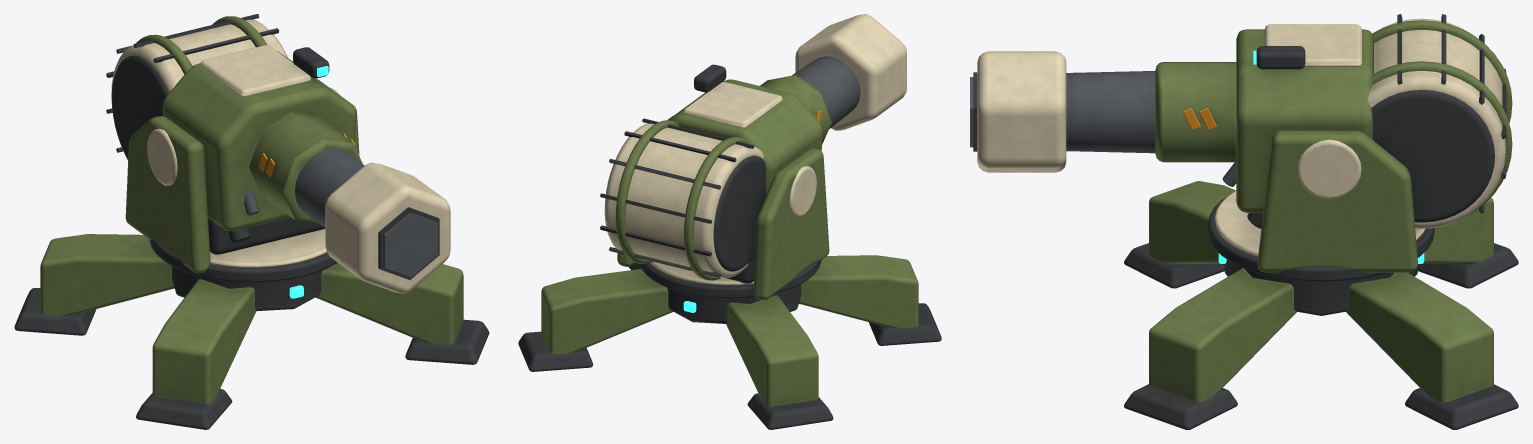
File: mule_frontier_olive.glb
3 renders of one model, left to right at view 1: azimuth 30°, elevation 25°; view 2: azimuth 150°, elevation 25°; view 3: azimuth 270°, elevation 25°, orthographic. The views are drawn at different scales.
Visible parts, largest first — view 1: Mule_Head, Mule_Base; view 2: Mule_Head, Mule_Base; view 3: Mule_Head, Mule_Base.
Part boxes in pixels (box(x1,y1,x2,y2)): Mule_Head: box(106, 14, 450, 293); Mule_Base: box(14, 229, 489, 429); Mule_Head: box(600, 14, 906, 299); Mule_Base: box(518, 255, 941, 429); Mule_Head: box(970, 14, 1512, 272); Mule_Base: box(1124, 181, 1518, 429).
Size of the model in its own units: 2.77 by 2.11 by 3.39.
Materials: 6 (5 with a texture image).
